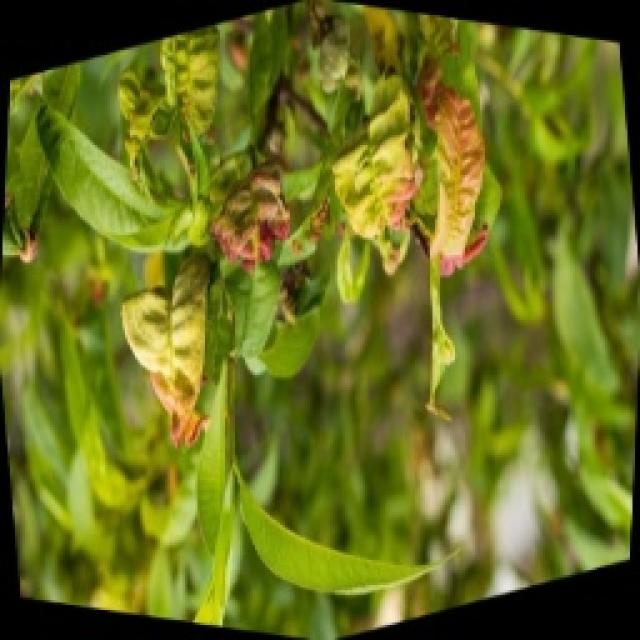peach_leaf_curl: (118, 248, 212, 448), (418, 75, 488, 275)
